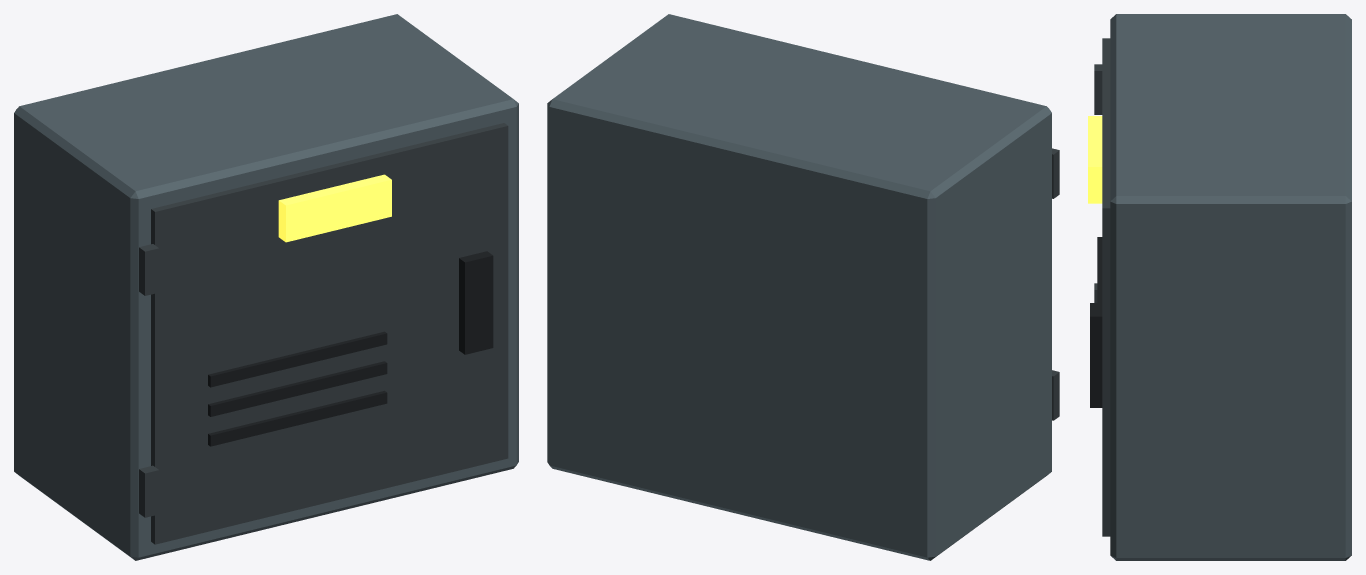
The model's file is lab_junction_box_a.glb.
3 renders of one model, left to right at view 1: azimuth 30°, elevation 25°; view 2: azimuth 150°, elevation 25°; view 3: azimuth 270°, elevation 25°, orthographic.
Parts seen in each view (by area): view 1: lab_junction_box_a, emit_lamp; view 2: lab_junction_box_a; view 3: lab_junction_box_a, emit_lamp.
Boxes of the visible parts, bbox=[...] form: lab_junction_box_a: bbox=[14, 14, 518, 560]; emit_lamp: bbox=[278, 174, 391, 242]; lab_junction_box_a: bbox=[547, 14, 1059, 560]; lab_junction_box_a: bbox=[1090, 14, 1351, 560]; emit_lamp: bbox=[1088, 116, 1102, 203].
Size of the model in its own units: 1.1 by 1 by 0.655.
